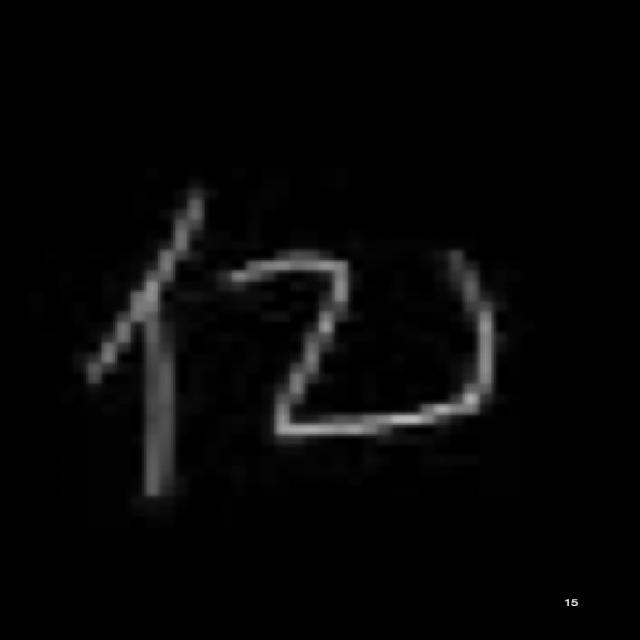100000 -a hundred thousand-: (62, 177, 514, 513)
